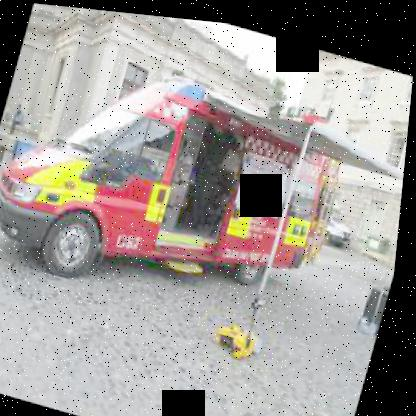emergency: (0, 29, 413, 352)
